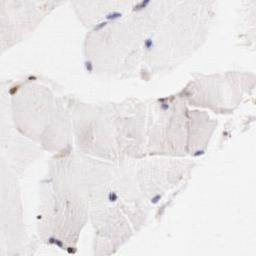nucleus: (105, 11, 122, 19), (94, 21, 108, 30), (151, 193, 161, 203), (144, 38, 153, 49), (85, 61, 92, 73), (55, 238, 63, 248), (109, 192, 117, 201), (49, 236, 55, 245), (195, 150, 205, 155), (142, 1, 150, 7), (162, 104, 168, 109), (160, 97, 165, 101)
positive_cell: (8, 84, 20, 95), (158, 96, 174, 102)
